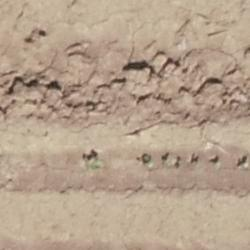cotton: (88, 162, 100, 168), (148, 160, 154, 167), (167, 157, 172, 165), (215, 161, 220, 167), (178, 161, 183, 166), (242, 163, 247, 168)
